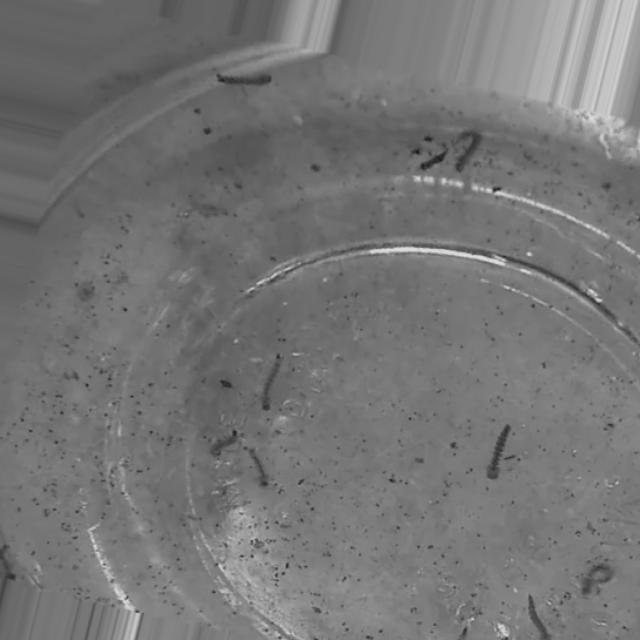larvas: (488, 423, 514, 481), (457, 122, 478, 171), (528, 597, 550, 640), (264, 359, 282, 410), (582, 562, 612, 590), (215, 74, 271, 87), (248, 450, 267, 487), (212, 434, 242, 455)
